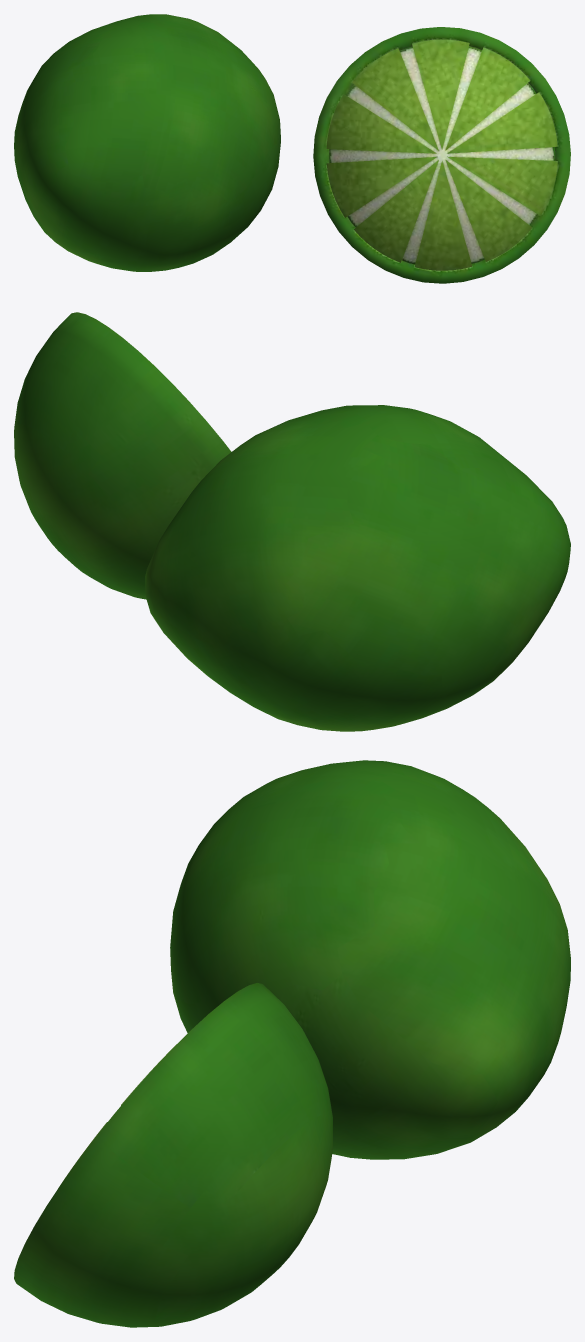
Rendered from lime.glb.
3 renders of one model, top to bottom at view 1: azimuth 30°, elevation 25°; view 2: azimuth 150°, elevation 25°; view 3: azimuth 270°, elevation 25°, orthographic. The views are drawn at different scales.
Visible parts, largest first — view 1: lime.001, lime_half; view 2: lime.001, lime_half; view 3: lime.001, lime_half.
Part boxes in pixels (x1=…): lime.001: x1=14, y1=14, x2=280, y2=271; lime_half: x1=313, y1=27, x2=570, y2=283; lime.001: x1=145, y1=405, x2=570, y2=731; lime_half: x1=14, y1=312, x2=231, y2=599; lime.001: x1=170, y1=760, x2=570, y2=1159; lime_half: x1=14, y1=983, x2=332, y2=1327.
Bounding box in the file's own units: 1.74 × 0.8724 × 1.21.
Materials: 2 (2 with a texture image).
